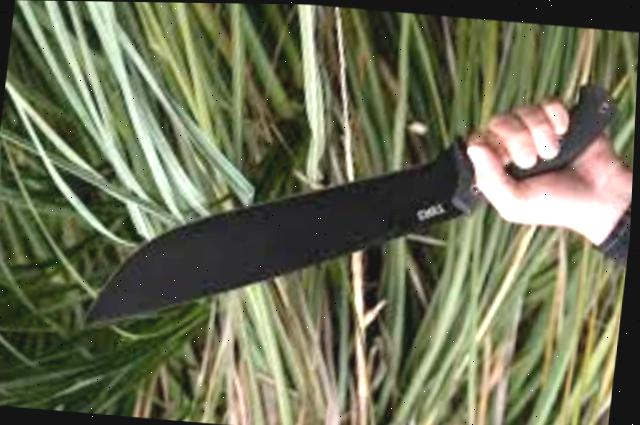long knife: (71, 44, 623, 367)
